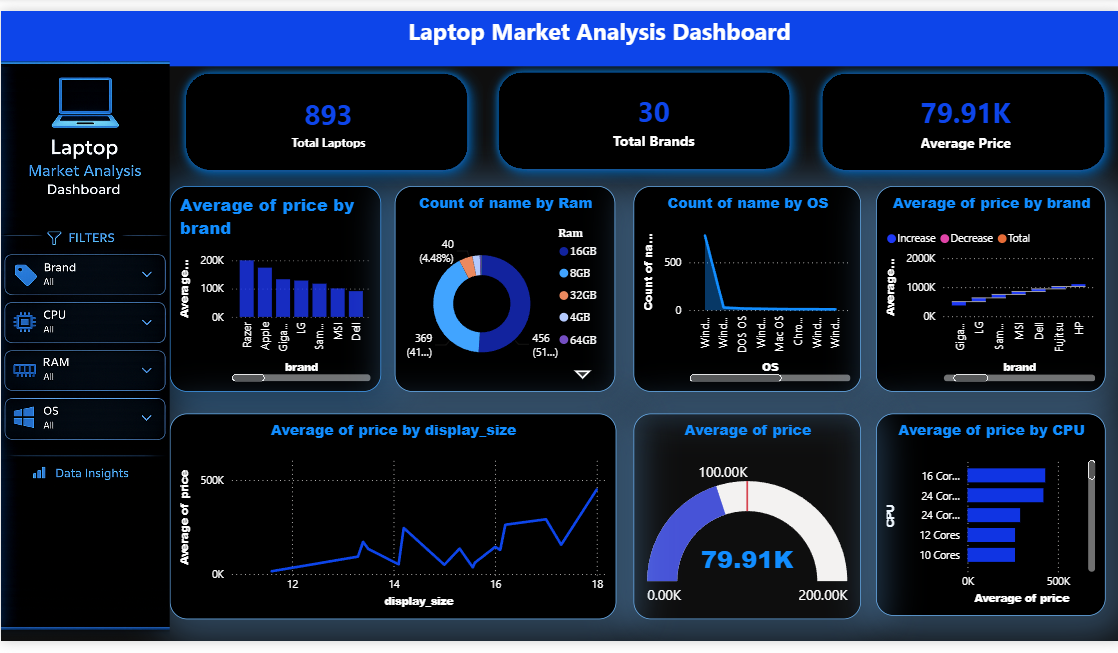

What the dashboard file says about the page in this screenshot:
{"tool":"powerbi","page":{"name":"Page 1","canvas":[1280,720],"ordinal":0},"visuals":[{"type":"clusteredColumnChart","fields":{"Category":["data.brand"],"Y":["Avg(data.price)"]},"box":[192.9,200,241.7,235],"z":0},{"type":"donutChart","fields":{"Category":["data.Ram"],"Y":["CountNonNull(data.name)"]},"box":[450,200,252,235.3],"z":1},{"type":"stackedAreaChart","fields":{"Category":["data.OS"],"Y":["CountNonNull(data.name)"]},"box":[722.5,200,260,235.3],"z":2},{"type":"waterfallChart","fields":{"Category":["data.brand"],"Y":["Avg(data.price)"]},"box":[1000,200,262.7,235.3],"z":3},{"type":"clusteredBarChart","fields":{"Category":["data.CPU"],"Y":["Avg(data.price)"]},"box":[1000,460,262.5,231.2],"z":4},{"type":"gauge","fields":{"Y":["Avg(data.price)"]},"box":[722.5,460,260,235],"z":5},{"type":"lineChart","fields":{"Y":["Avg(data.price)"],"Category":["data.display_size"]},"box":[192.5,460,510,235],"z":6},{"type":"shape","box":[193.3,53.3,358.8,147.5],"z":8},{"type":"cardVisual","fields":{"Data":["data.Total Laptops"]},"box":[275,80,197.3,94.5],"z":9},{"type":"shape","box":[550,51.2,370,147.5],"z":10},{"type":"shape","box":[920,52.5,360,147.5],"z":11},{"type":"cardVisual","fields":{"Data":["data.Total Brands"]},"box":[640,71.7,212.9,107.1],"z":12},{"type":"cardVisual","fields":{"Data":["data.Average Price"]},"box":[1000,78.6,205.7,97.1],"z":13},{"type":"textbox","box":[0,0,1280,62.9],"z":14},{"type":"image","box":[0,31.4,192.9,688.6],"z":15}]}

Visuals, with their boxes on the page's 1280x720 design canvas (x1, y1, x2, y2). These are canvas units, not pixel positions in the 1118x653 screenshot, which may show the page scaled, cropped or inside an application window:
clusteredColumnChart - data.brand x Avg(data.price): (193, 200, 435, 435)
donutChart - data.Ram x CountNonNull(data.name): (450, 200, 702, 435)
stackedAreaChart - data.OS x CountNonNull(data.name): (722, 200, 982, 435)
waterfallChart - data.brand x Avg(data.price): (1000, 200, 1263, 435)
clusteredBarChart - data.CPU x Avg(data.price): (1000, 460, 1262, 691)
gauge - Avg(data.price): (722, 460, 982, 695)
lineChart - Avg(data.price) x data.display_size: (192, 460, 702, 695)
shape: (193, 53, 552, 201)
cardVisual - data.Total Laptops: (275, 80, 472, 174)
shape: (550, 51, 920, 199)
shape: (920, 52, 1280, 200)
cardVisual - data.Total Brands: (640, 72, 853, 179)
cardVisual - data.Average Price: (1000, 79, 1206, 176)
textbox: (0, 0, 1280, 63)
image: (0, 31, 193, 720)
